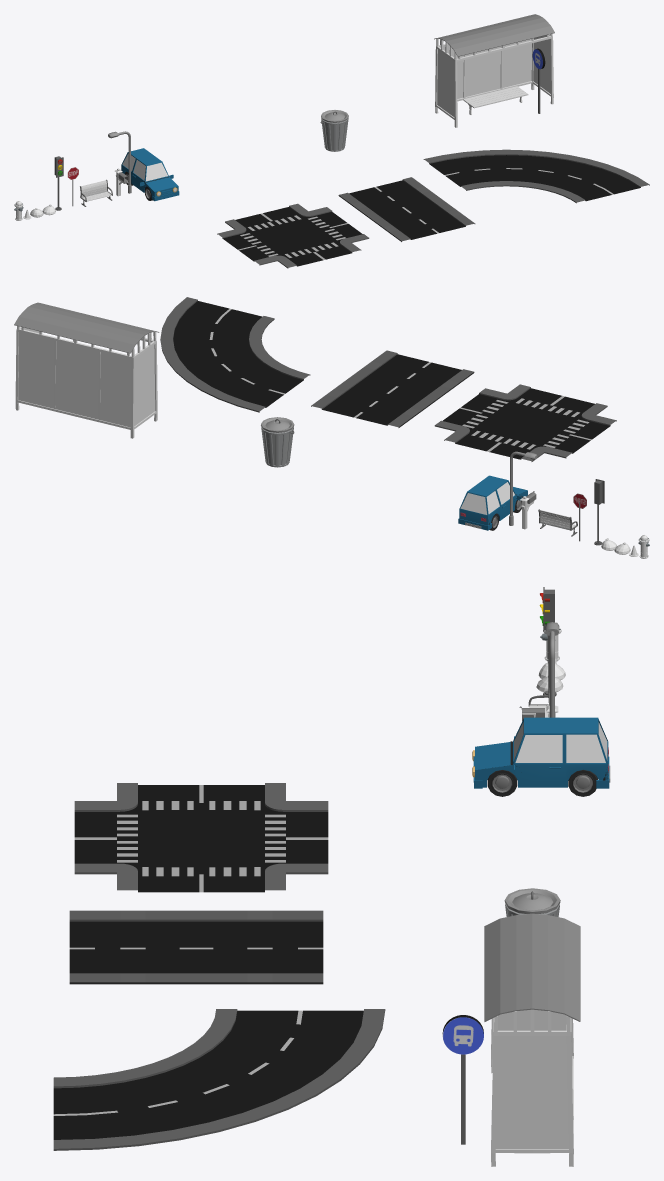
Rendered from city_low .fbx.
3 renders of one model, top to bottom at view 1: azimuth 30°, elevation 25°; view 2: azimuth 150°, elevation 25°; view 3: azimuth 270°, elevation 25°, orthographic. The views are drawn at different scales.
Visible parts, largest first — view 1: Cube.007, Plane.005, Plane.003, Plane.004, Plane, Circle.007, Cube.001; view 2: Cube.007, Plane.005, Plane.003, Plane.004, Plane, Circle.007, Cube.001; view 3: Plane.005, Plane.003, Cube.007, Plane.004, Plane, Circle.007.
Part boxes in pixels (bbox=[...]): Cube.007: bbox=[434, 14, 554, 127]; Plane.005: bbox=[423, 149, 649, 203]; Plane.003: bbox=[217, 203, 369, 268]; Plane.004: bbox=[338, 177, 475, 241]; Plane: bbox=[121, 148, 179, 201]; Circle.007: bbox=[320, 110, 348, 151]; Cube.001: bbox=[80, 179, 112, 206]; Cube.007: bbox=[14, 302, 159, 438]; Plane.005: bbox=[160, 297, 310, 412]; Plane.003: bbox=[434, 384, 616, 461]; Plane.004: bbox=[311, 350, 474, 427]; Plane: bbox=[458, 475, 527, 530]; Circle.007: bbox=[261, 417, 294, 467]; Cube.001: bbox=[538, 509, 577, 536]; Plane.005: bbox=[53, 1009, 385, 1150]; Plane.003: bbox=[74, 783, 328, 892]; Cube.007: bbox=[442, 913, 580, 1166]; Plane.004: bbox=[69, 910, 323, 984]; Plane: bbox=[472, 717, 610, 796]; Circle.007: bbox=[504, 888, 560, 916].
Bounding box in the file's own units: 19970 × 2889 × 9177.
